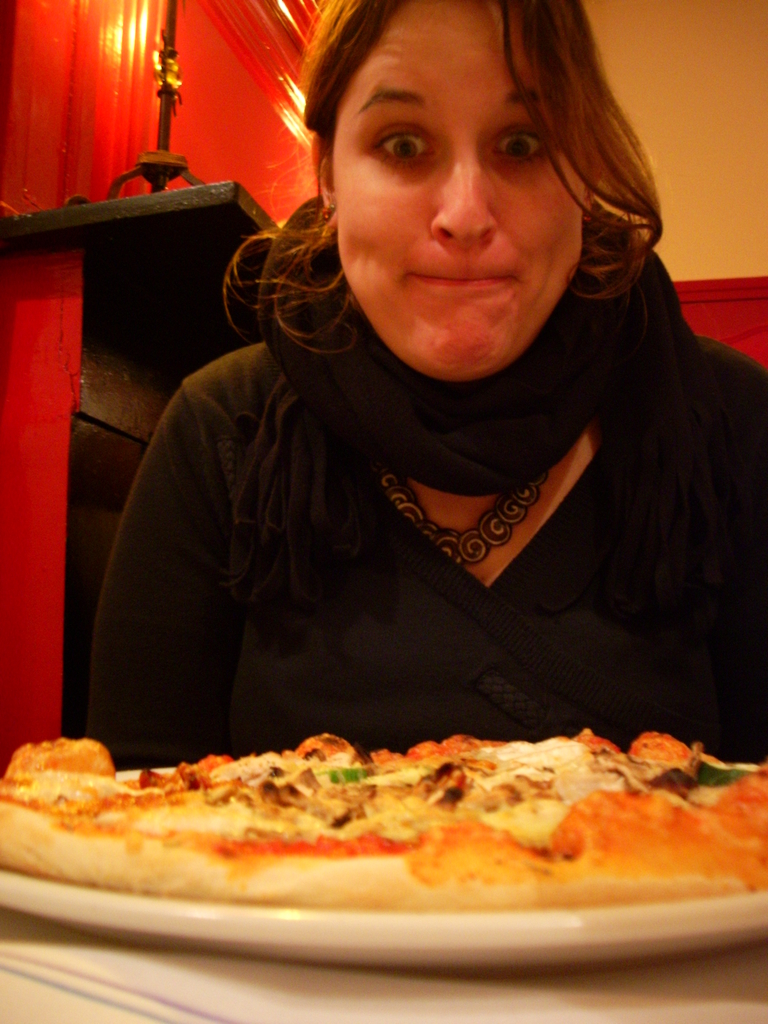pizza: (0, 730, 767, 904)
